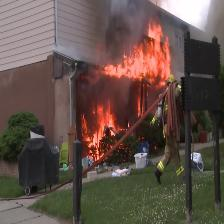fire: (63, 23, 178, 175)
smoke: (88, 0, 182, 53)
